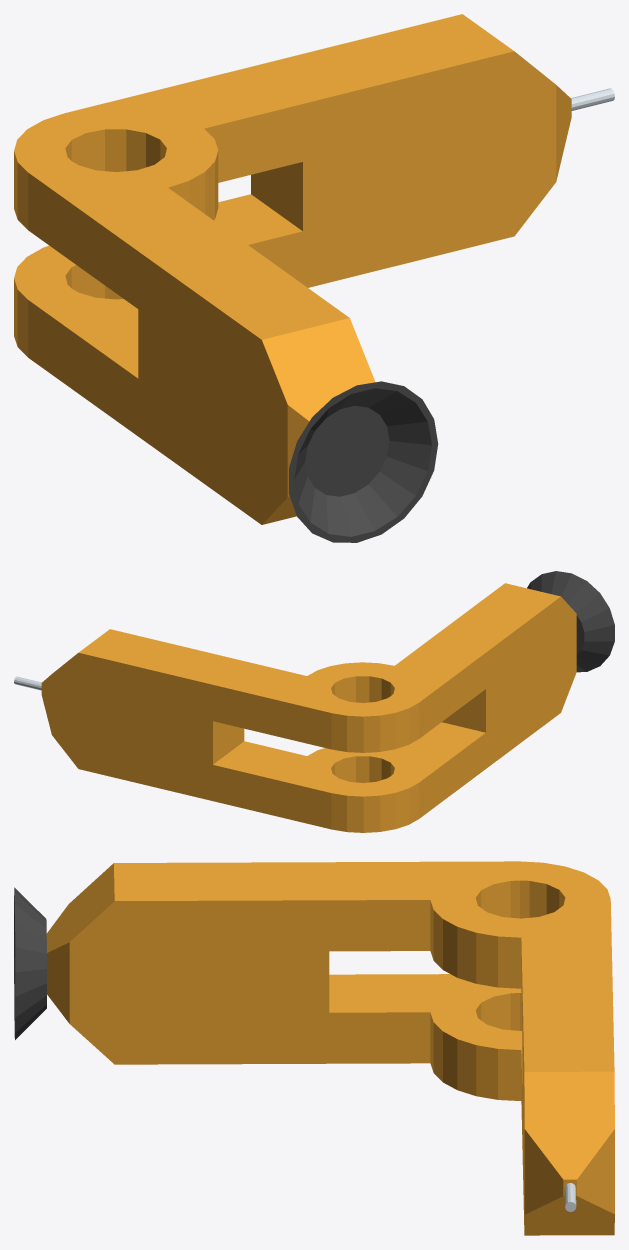
Rendered from tool_link.dae.
The picture shows the model from 3 angles, top to bottom: view 1: azimuth 30°, elevation 25°; view 2: azimuth 150°, elevation 25°; view 3: azimuth 270°, elevation 25°; orthographic projection. The views are drawn at different scales.
Visible parts, largest first — view 1: tool_link; view 2: tool_link; view 3: tool_link.
Part boxes in pixels (x1,y1,x2,y2): tool_link: [14, 14, 614, 542]; tool_link: [14, 571, 614, 832]; tool_link: [14, 861, 614, 1235].
Size of the model in its own units: 0.1442 by 0.1333 by 0.04.
